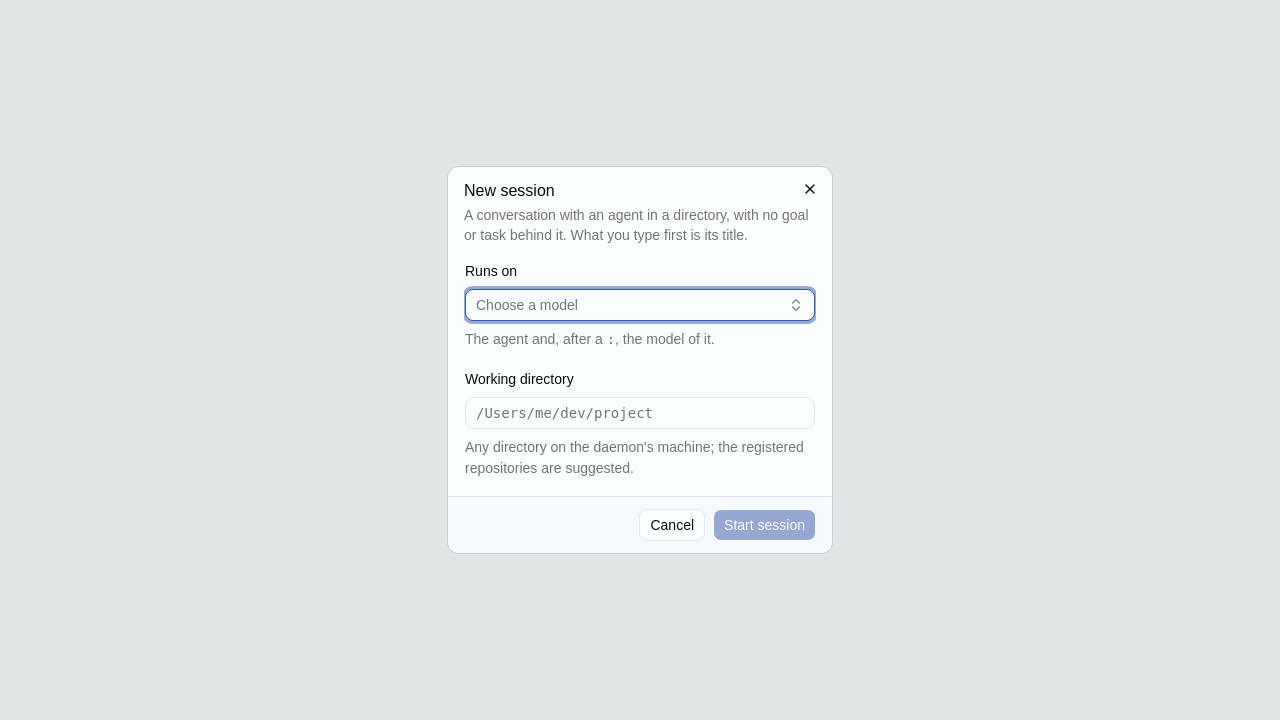
Test: shows the daemon's refusal and stays open
Step 1. Click the button with aria-label "Runs on" → (527, 305), box left=465, top=289, right=815, bottom=321
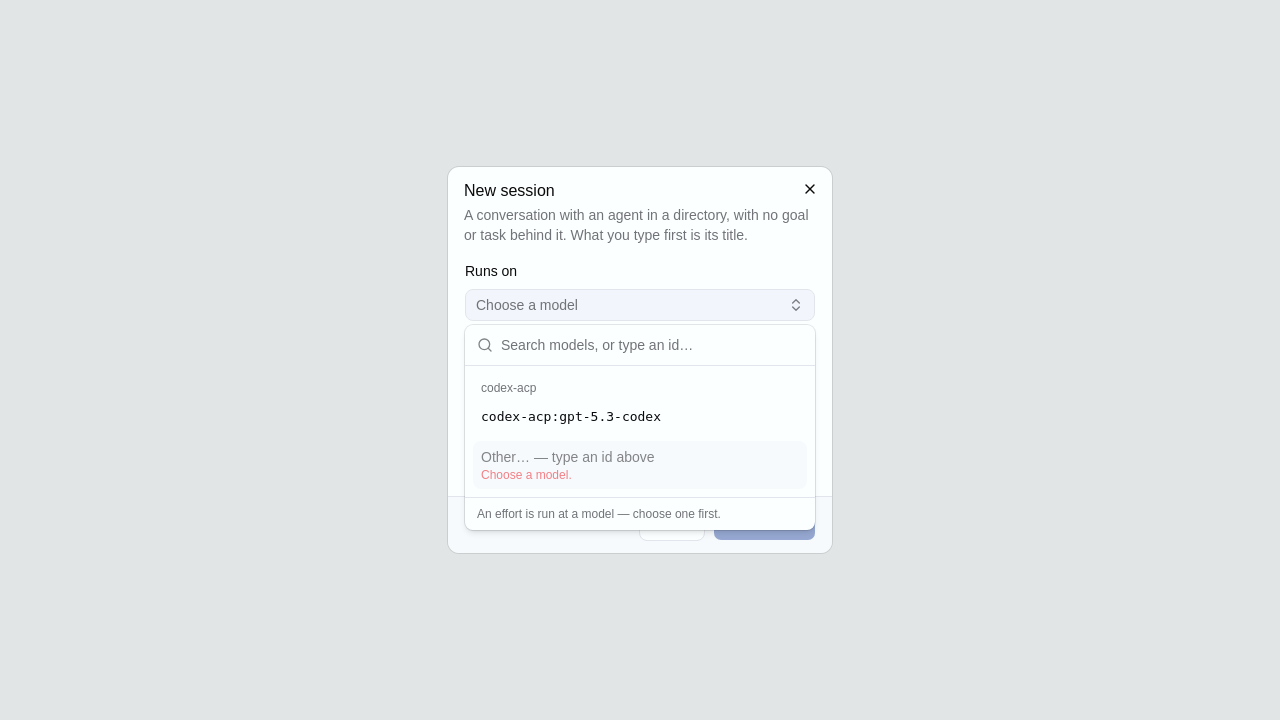
Step 2. Click the option "codex-acp:gpt-5.3-codex" → (571, 416), box left=481, top=409, right=661, bottom=424
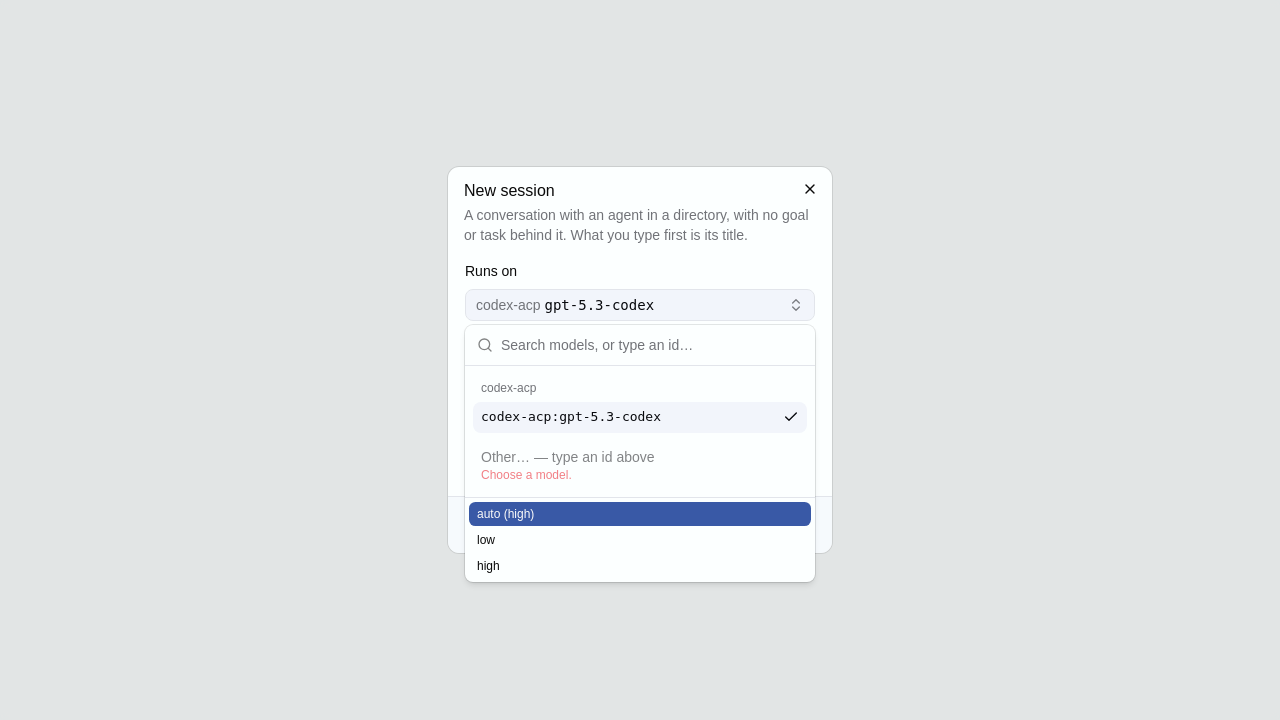
Step 3. Press Escape
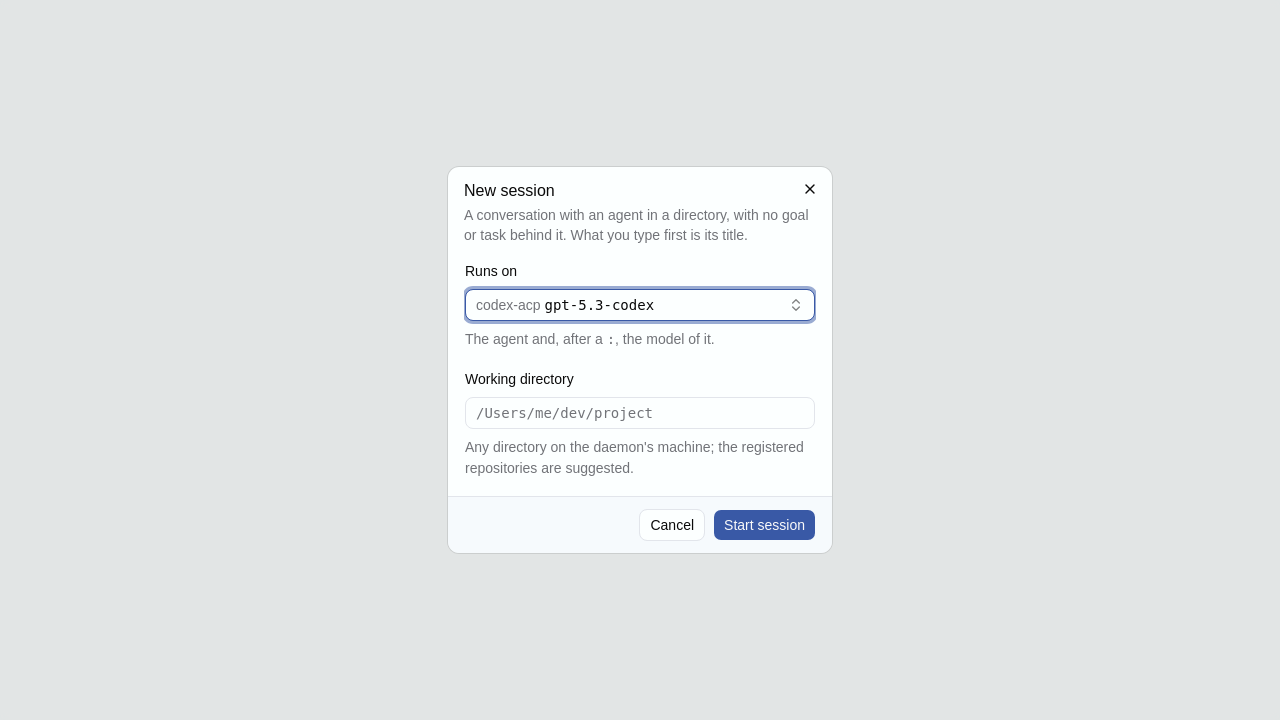
Step 4. Type "/nope" into the field labelled "Working directory" → (640, 413), box left=465, top=397, right=815, bottom=429
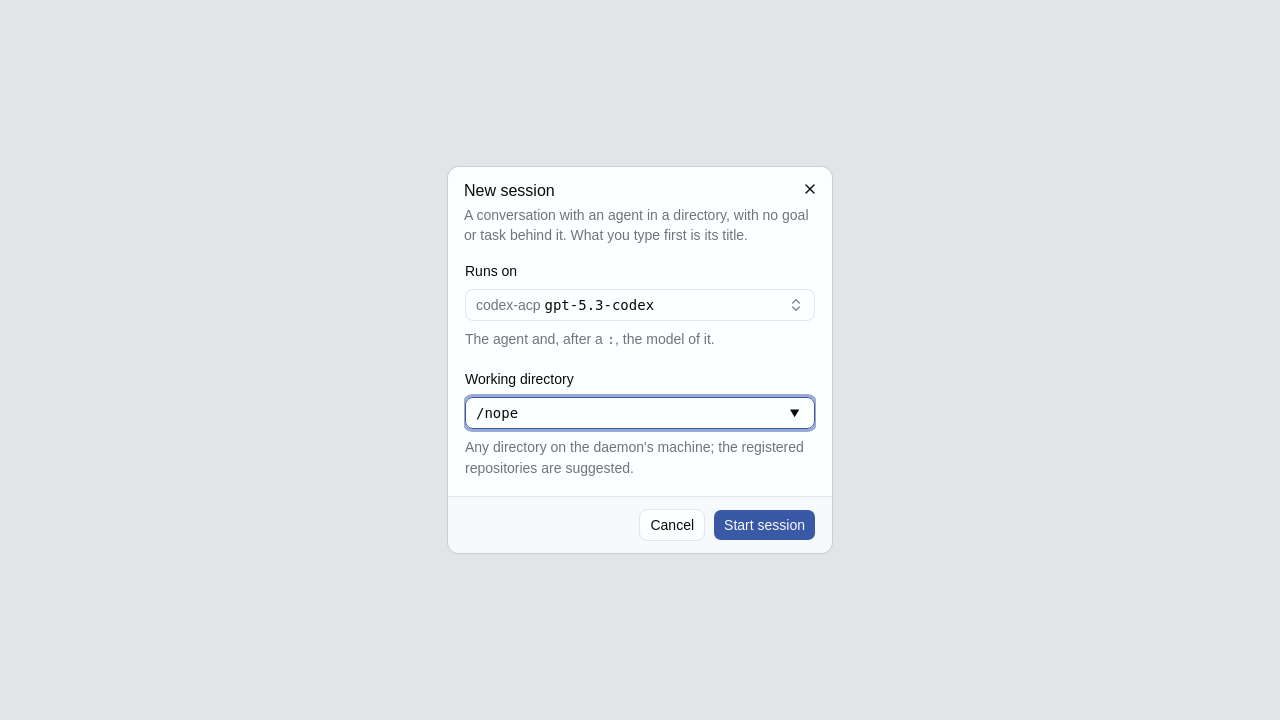
Step 5. Click the button "Start session" → (765, 525), box left=713, top=509, right=816, bottom=541
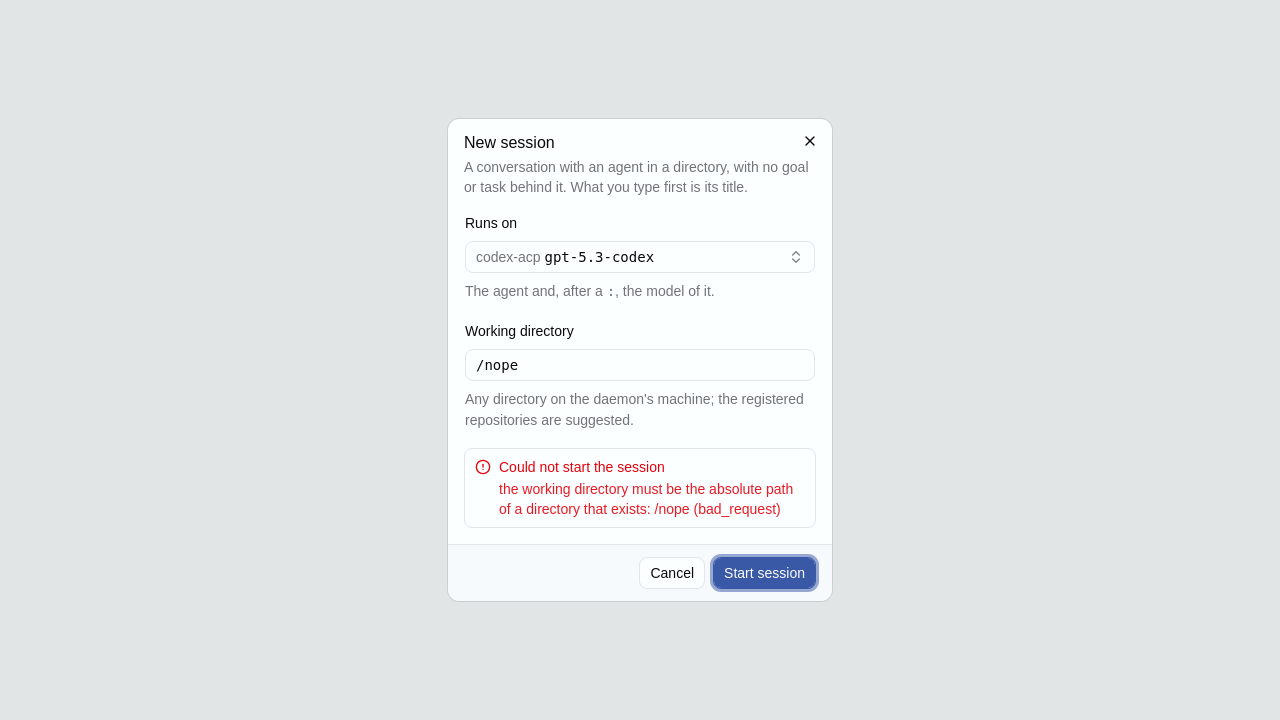
Check: the text "a directory that exists: /nope" is shown, box left=499, top=481, right=793, bottom=517
